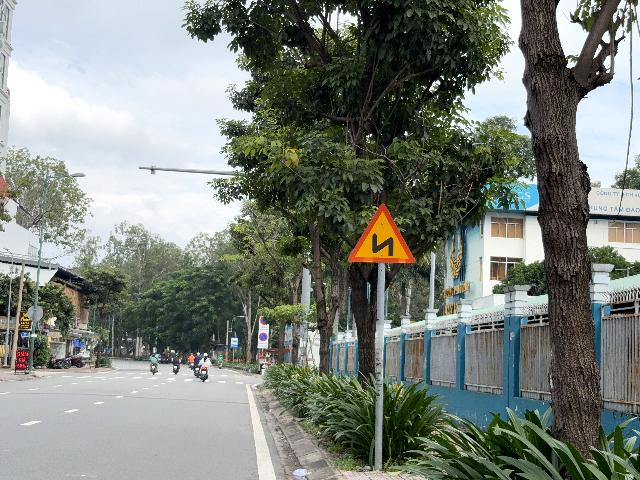nhieu-cho-ngoat-nguy-hiem-lien-tiep: (348, 203, 415, 264)
